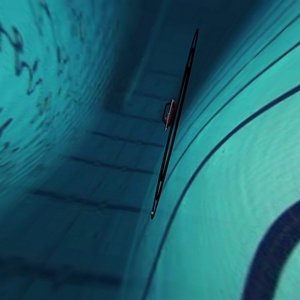circle: (120, 18, 225, 231)
submarine: (154, 93, 187, 142)
